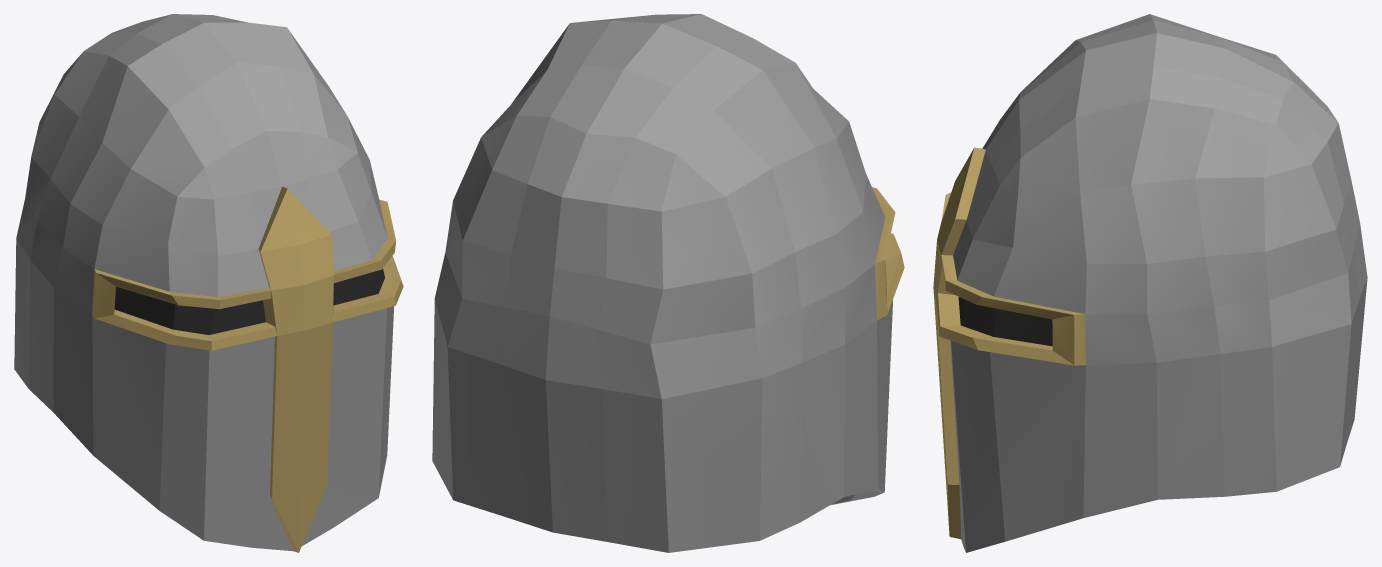
File: TitanHelmet.glb
3 renders of one model, left to right at view 1: azimuth 30°, elevation 25°; view 2: azimuth 150°, elevation 25°; view 3: azimuth 270°, elevation 25°, orthographic. The views are drawn at different scales.
Visible parts, largest first — view 1: Helmet3__ncl1_29.003; view 2: Helmet3__ncl1_29.003; view 3: Helmet3__ncl1_29.003.
Boxes of the visible parts, x1,y1,x2,y2 form: Helmet3__ncl1_29.003: (14, 14, 403, 552); Helmet3__ncl1_29.003: (432, 14, 904, 552); Helmet3__ncl1_29.003: (933, 14, 1367, 552).
Size of the model in its own units: 1.34 by 1.97 by 1.53.
